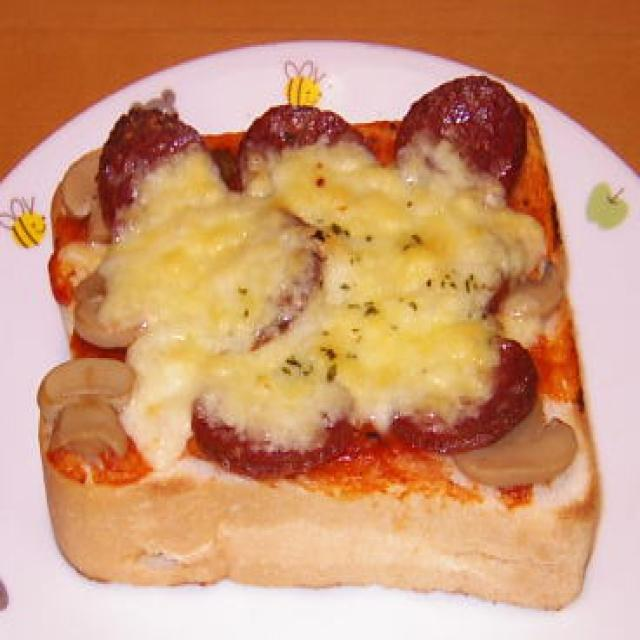面包点心: (21, 52, 609, 618)
